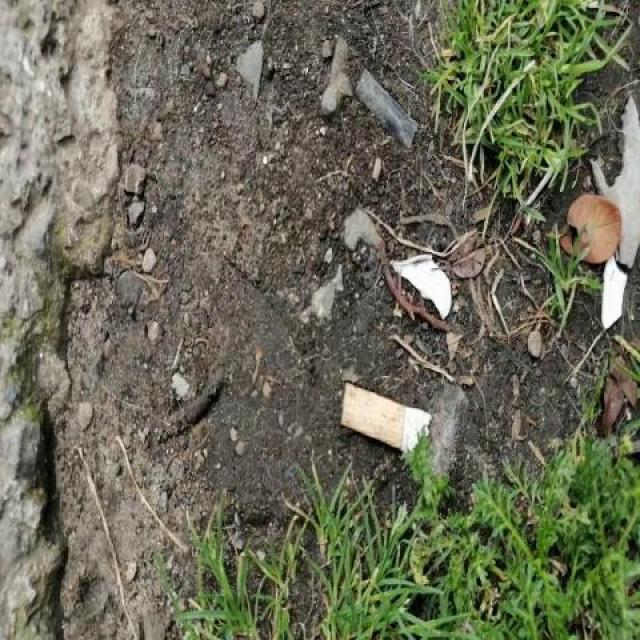non-organic waste: (336, 376, 436, 460)
